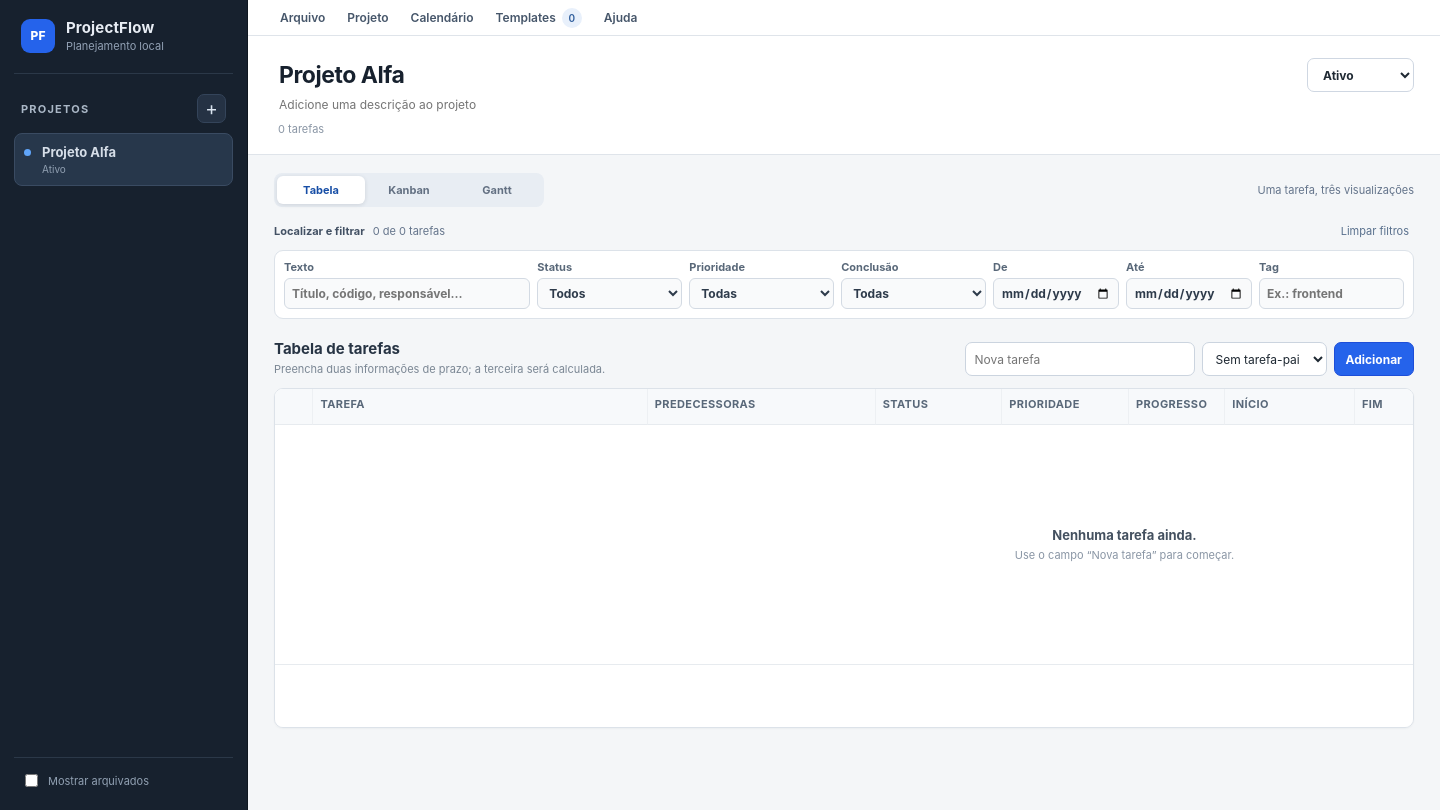
aplicação ProjectFlow › permite escolher projetos e templates de um pacote antes de importar
The image size is (1440, 810).
Expected: the heading "Tabela de tarefas" is shown, [274,339,400,358]
Click the heading "Arquivo" at (303, 18), box [280,10,325,25]
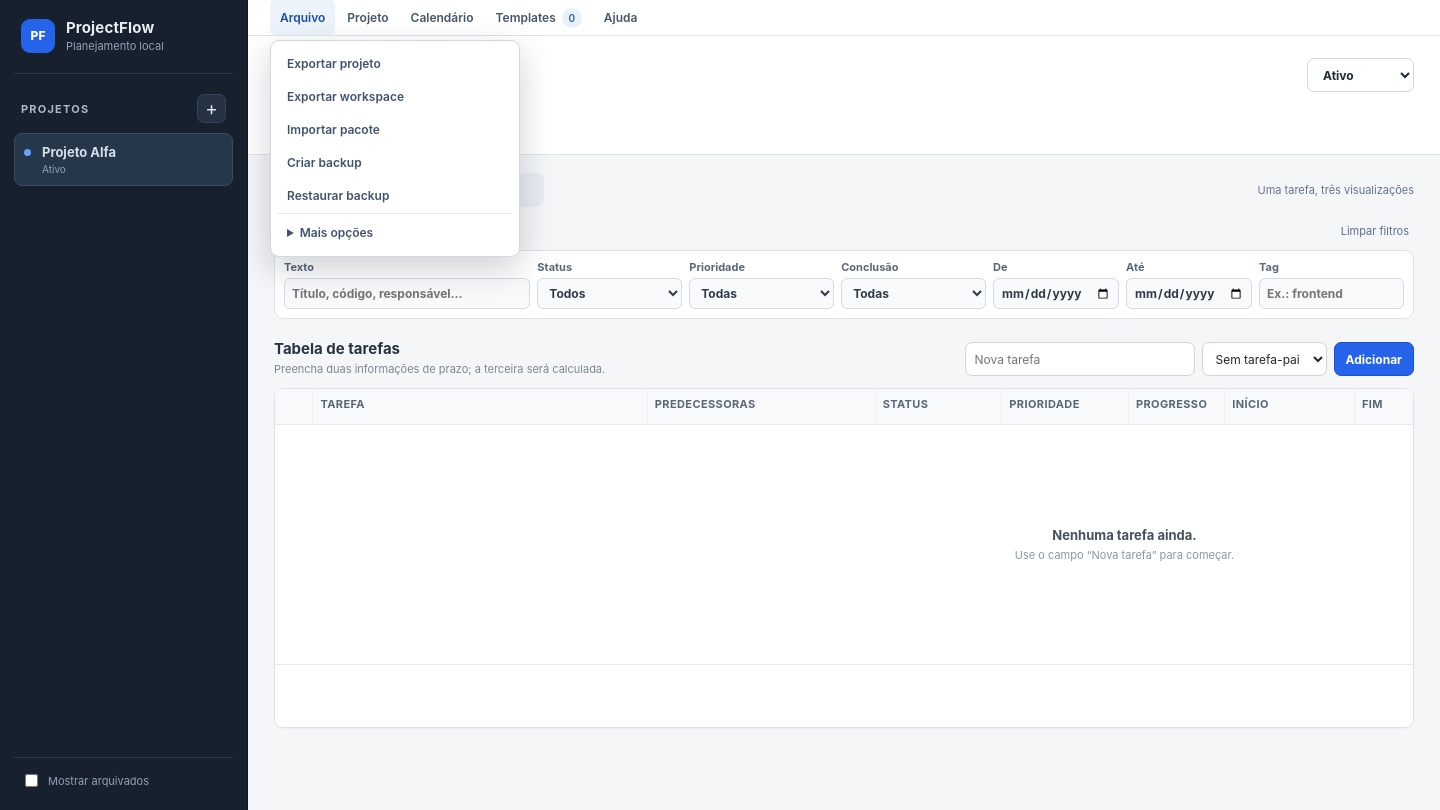
Click the button "Importar pacote" at (395, 130), box [278,114,512,145]
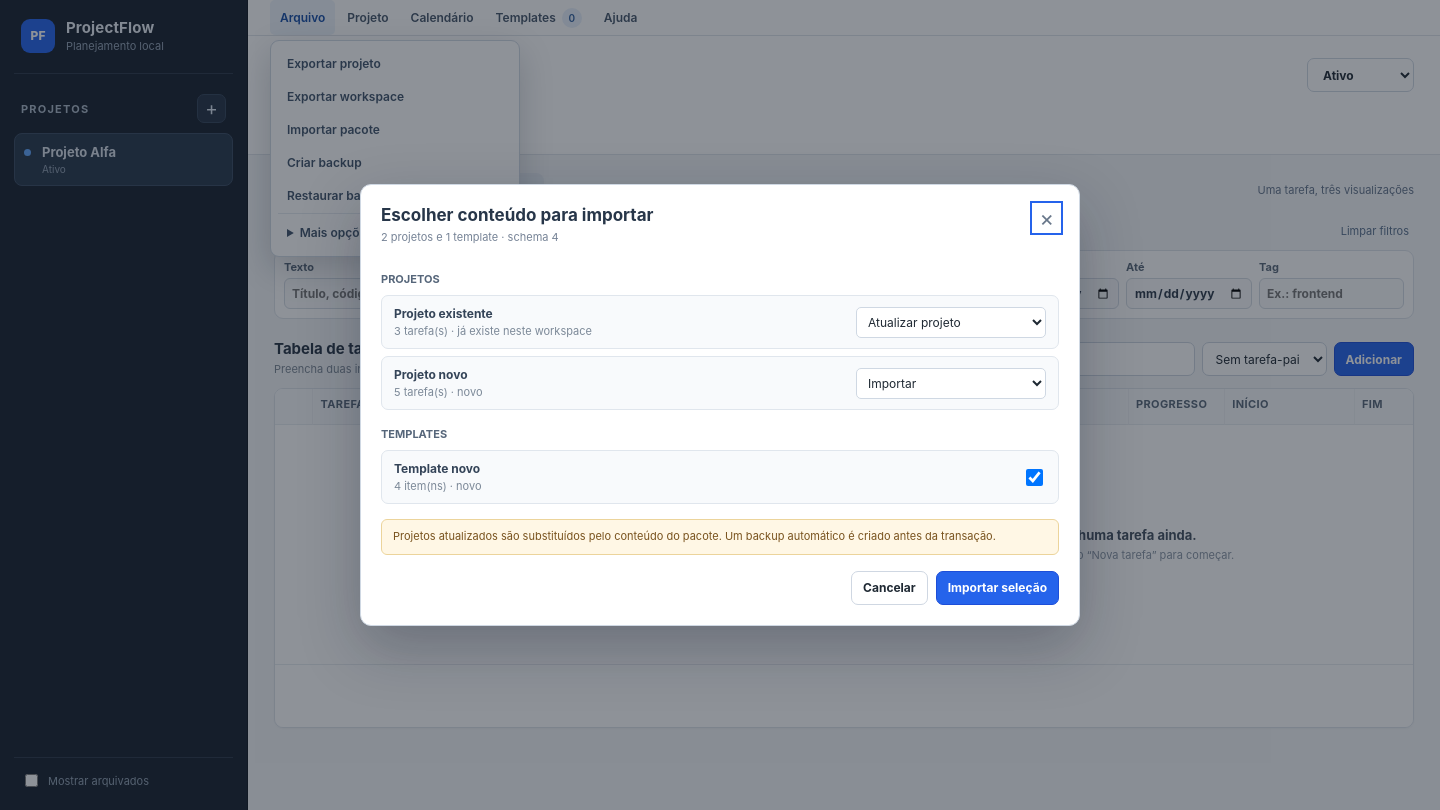
Select "Não importar" in the dropdown named "Ação para Projeto existente" at (951, 322), box [856,306,1046,338]
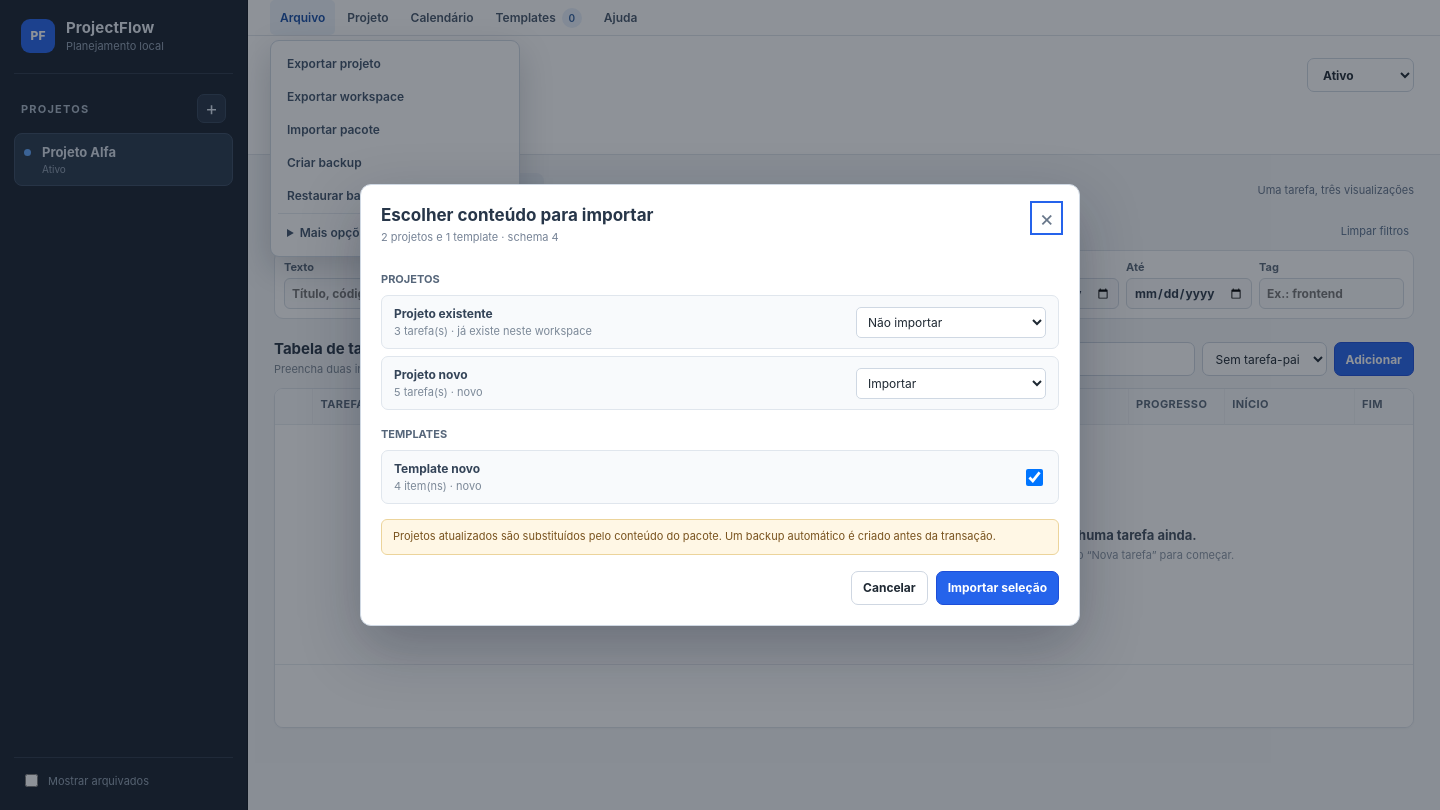
Select "Importar como cópia" in the dropdown named "Ação para Projeto novo" at (951, 383), box [856,368,1046,398]
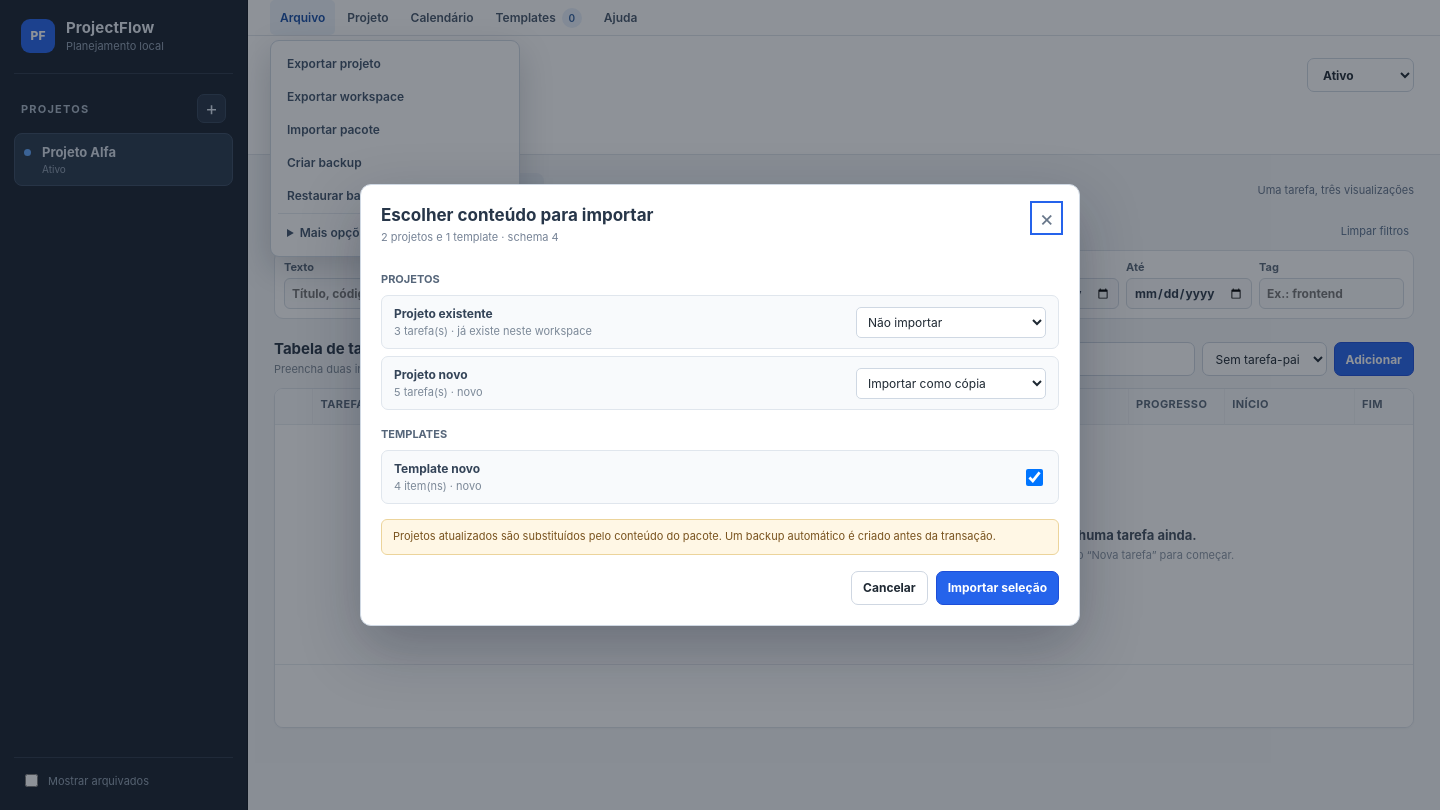
Click the button "Importar seleção" at (997, 588), box [936,571,1059,605]
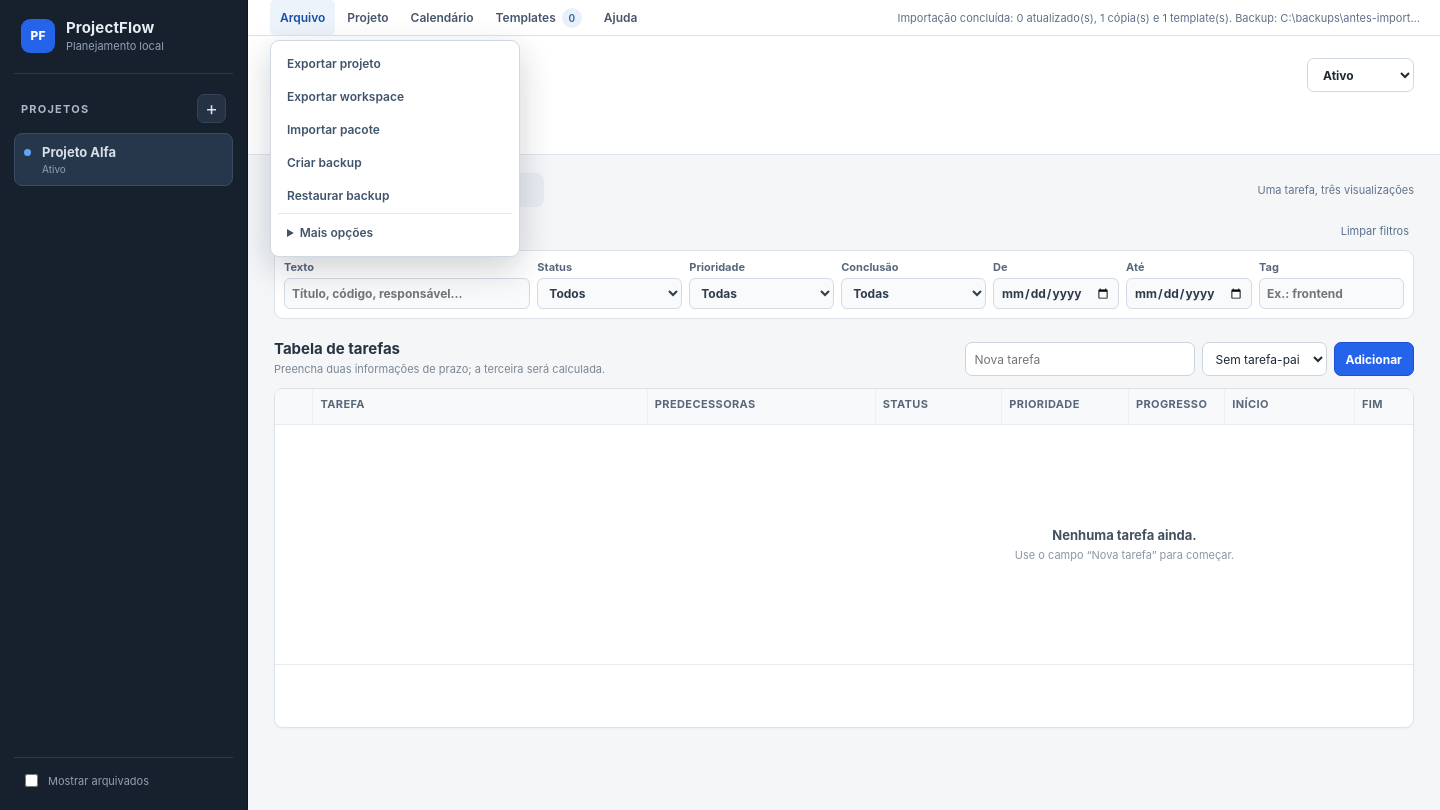
Expected: the text "Importação concluída:" is shown, [898,10,1439,24]
